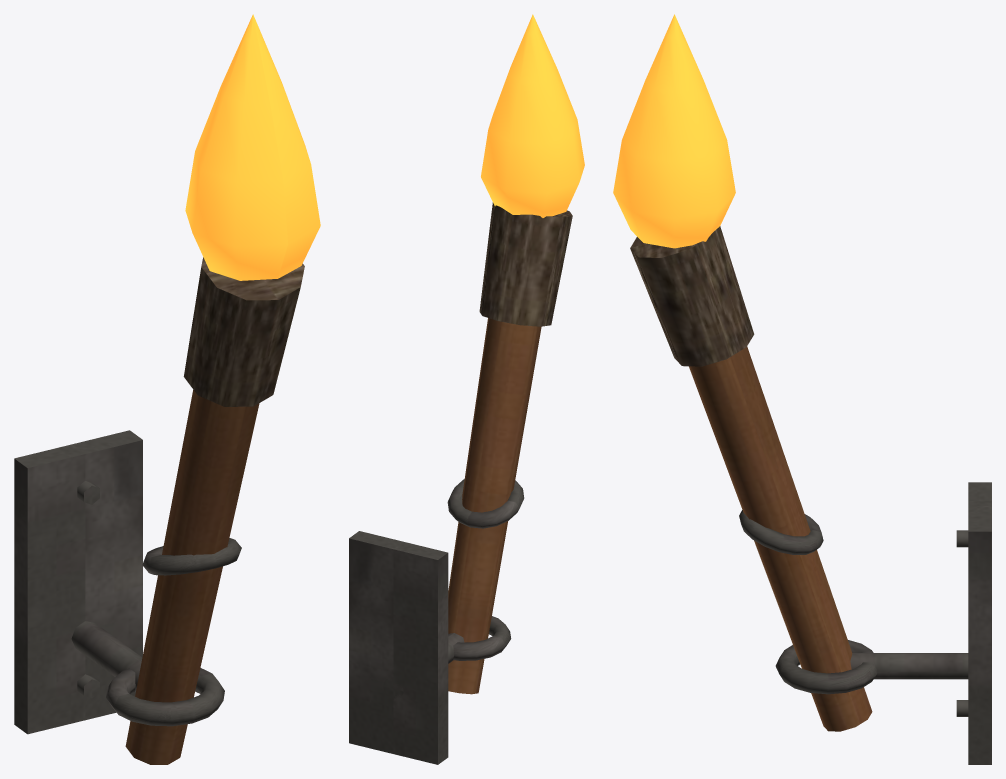
Rendered from wall-torch.glb.
The picture shows the model from 3 angles, left to right: view 1: azimuth 30°, elevation 25°; view 2: azimuth 150°, elevation 25°; view 3: azimuth 270°, elevation 25°; orthographic projection. The views are drawn at different scales.
Parts seen in each view (by area): view 1: WallTorch_iron, Flame, WallTorch_oak, WallTorch_cloth; view 2: WallTorch_iron, WallTorch_oak, Flame, WallTorch_cloth; view 3: WallTorch_oak, Flame, WallTorch_iron, WallTorch_cloth.
Boxes of the visible parts, x1,y1,x2,y2 form: WallTorch_iron: (14,430,241,734); Flame: (185,14,320,280); WallTorch_oak: (125,390,259,764); WallTorch_cloth: (183,257,304,406); WallTorch_iron: (349,479,524,764); WallTorch_oak: (448,318,541,694); Flame: (481,14,584,217); WallTorch_cloth: (479,202,572,326); WallTorch_oak: (689,346,872,731); Flame: (613,14,735,248); WallTorch_iron: (739,482,991,764); WallTorch_cloth: (630,226,754,366).
Size of the model in its own units: 0.105 by 0.6853 by 0.3238.
4 materials, 3 textured.
